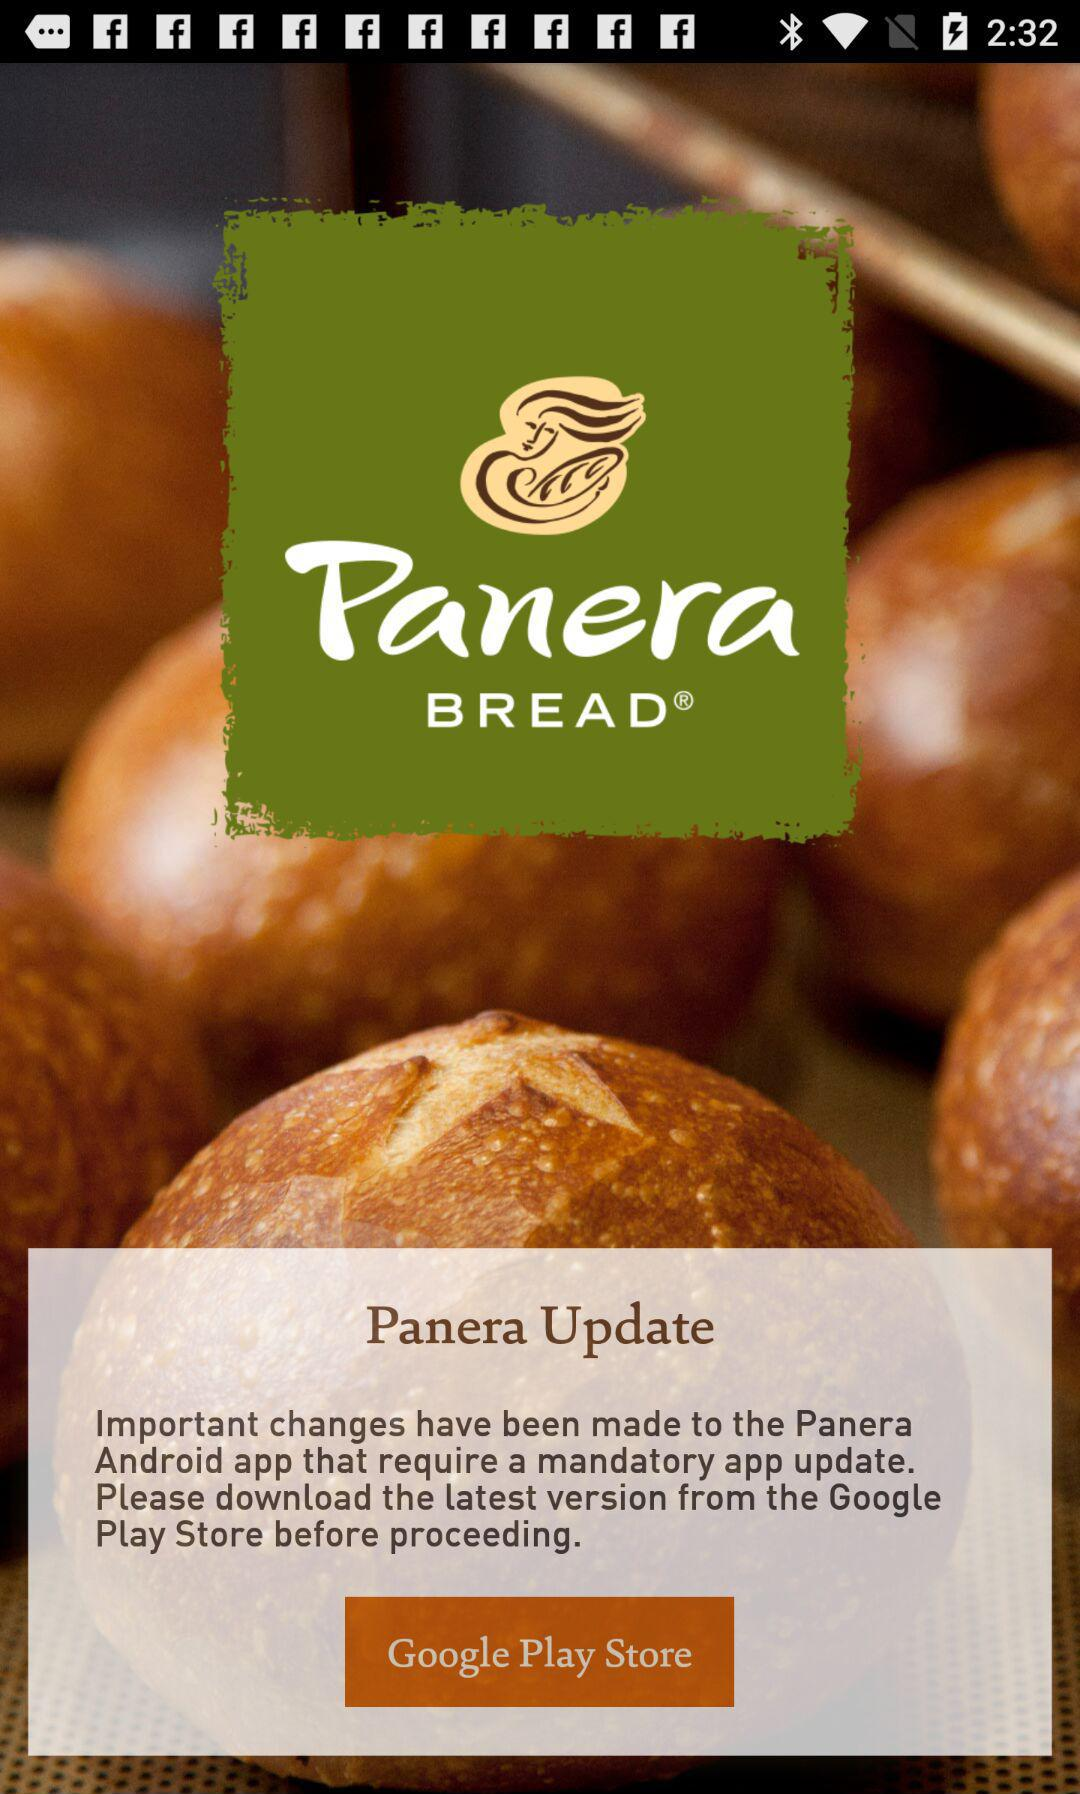BackgroundImage: (1, 64, 1080, 1794)
Image: (217, 200, 855, 837)
Text: (94, 1408, 942, 1556), (365, 1299, 716, 1360)
TextButton: (345, 1597, 735, 1708)
UpperTaskBar: (1, 1, 1080, 64)
